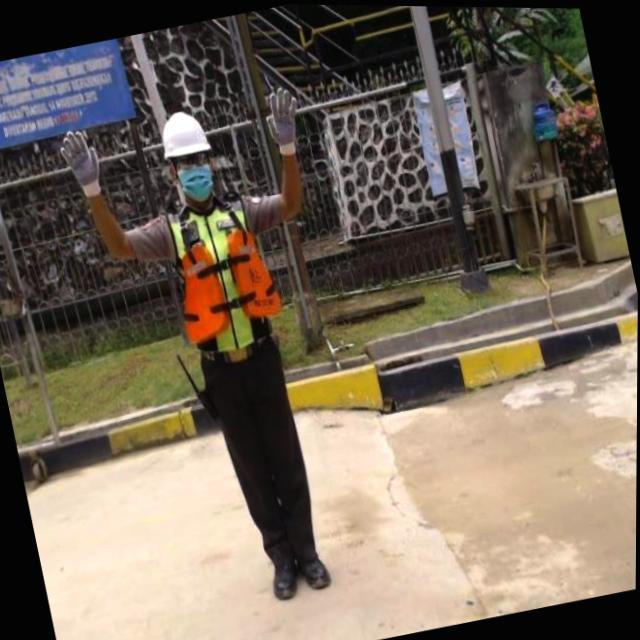goggles_on: (166, 144, 222, 177)
